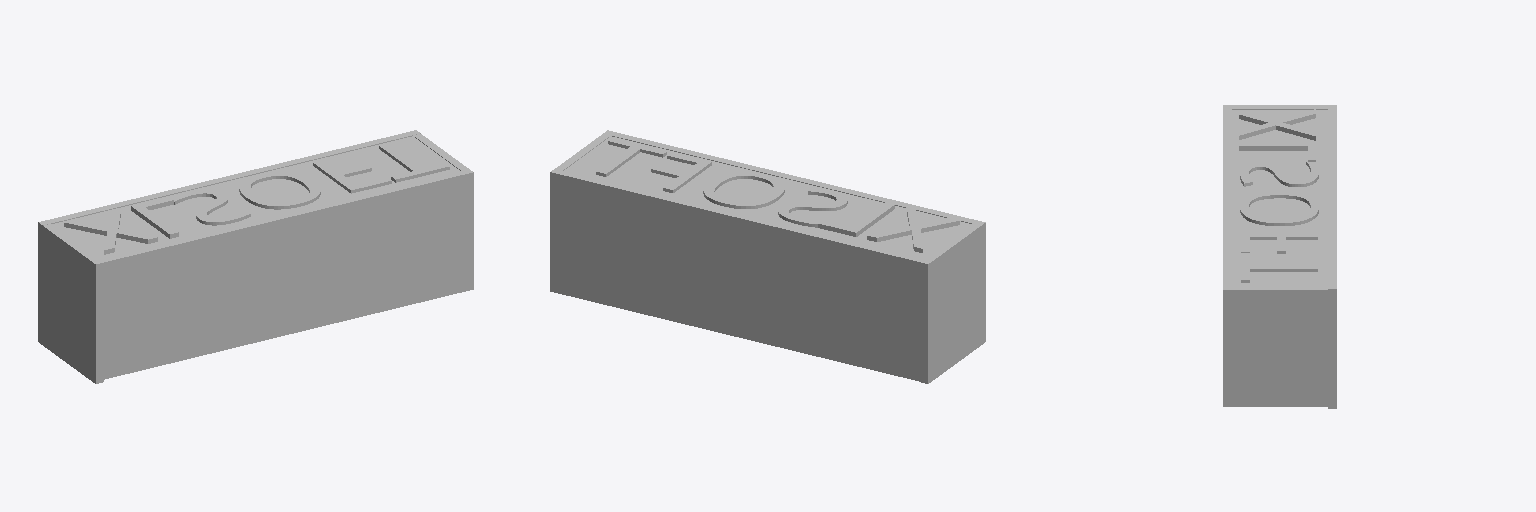
Rendered from XLsoft-3D.obj.
3 renders of one model, left to right at view 1: azimuth 30°, elevation 25°; view 2: azimuth 150°, elevation 25°; view 3: azimuth 270°, elevation 25°, orthographic.
Visible parts, largest first — view 1: obj_0; view 2: obj_0; view 3: obj_0.
Boxes of the visible parts, x1,y1,x2,y2 form: obj_0: [38, 130, 473, 383]; obj_0: [550, 130, 985, 383]; obj_0: [1223, 105, 1336, 408].
Bounding box in the file's own units: 171 × 54 × 45.